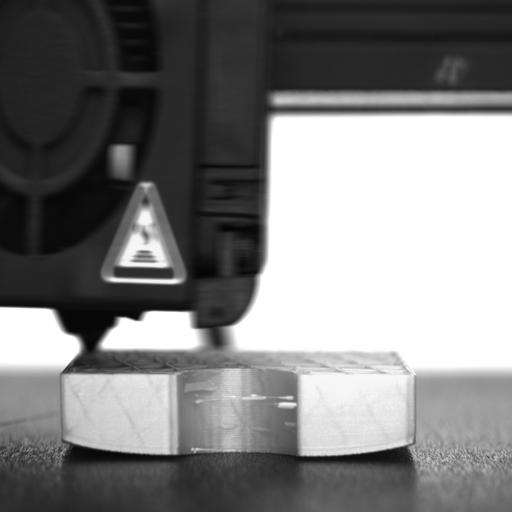warp: (56, 432, 180, 463)
